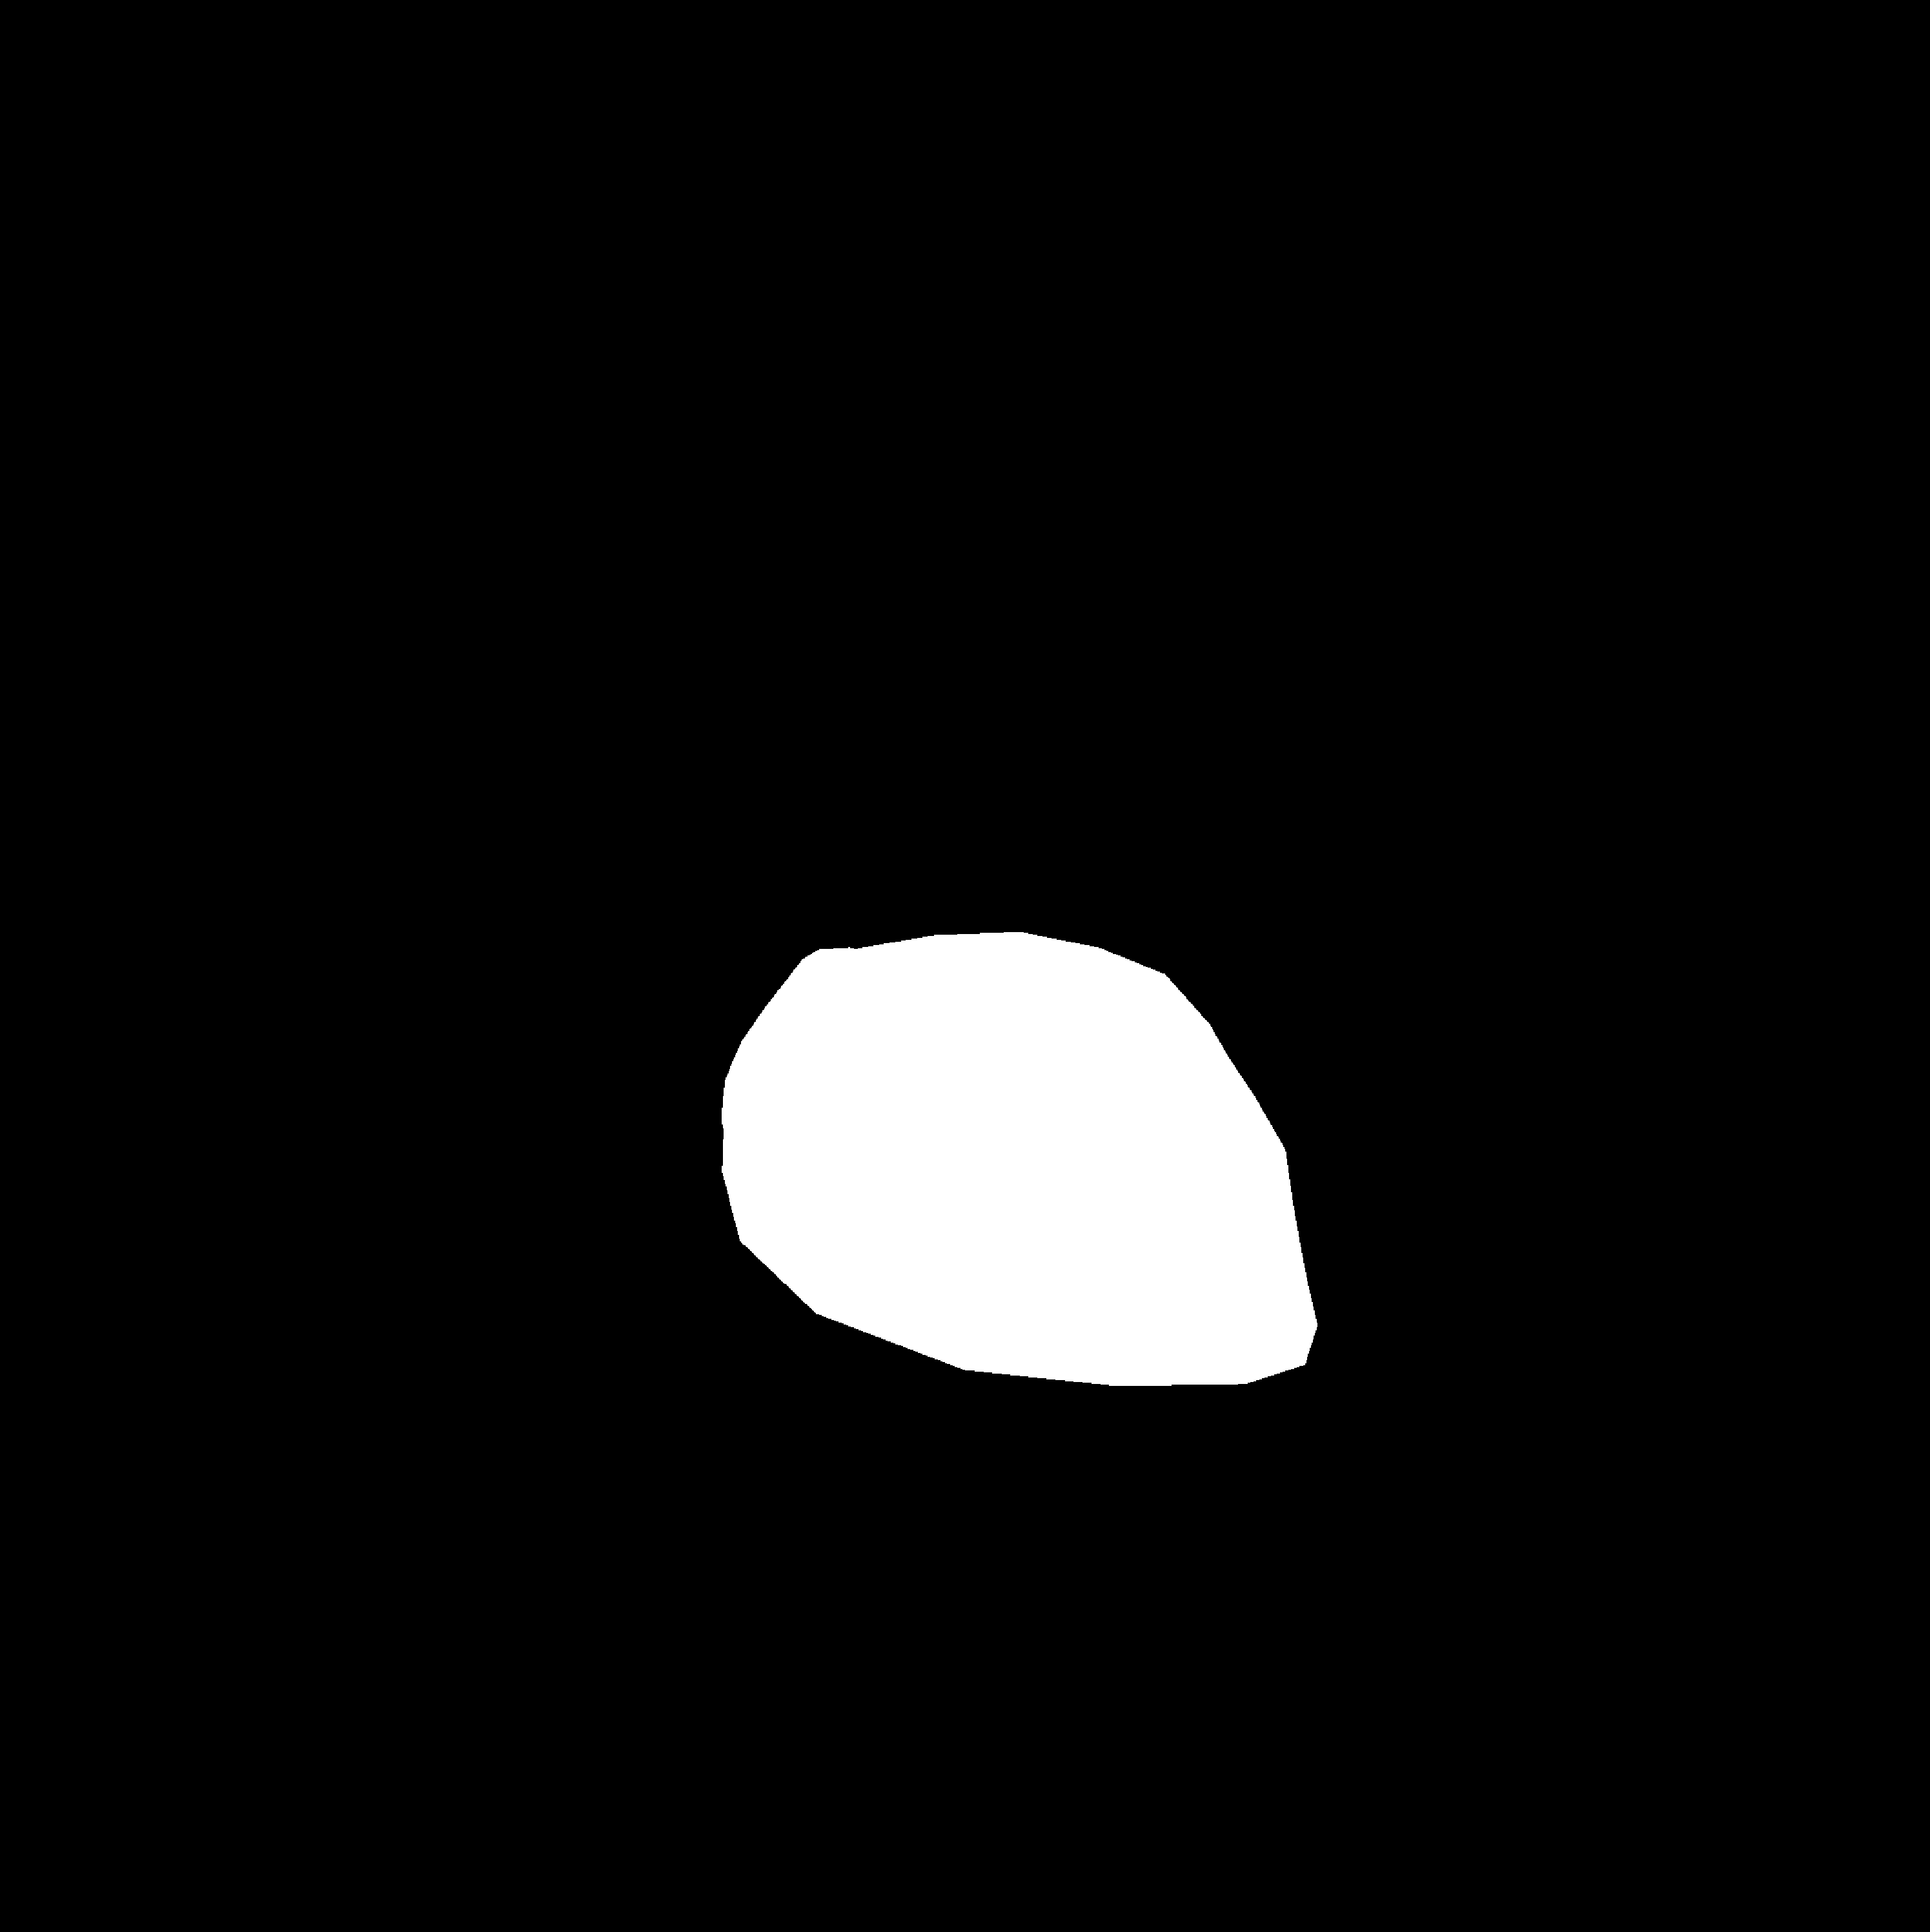heart: (718, 951, 1303, 1372)
left_lung: (237, 369, 889, 1471)
right_lung: (993, 378, 1564, 1511)
